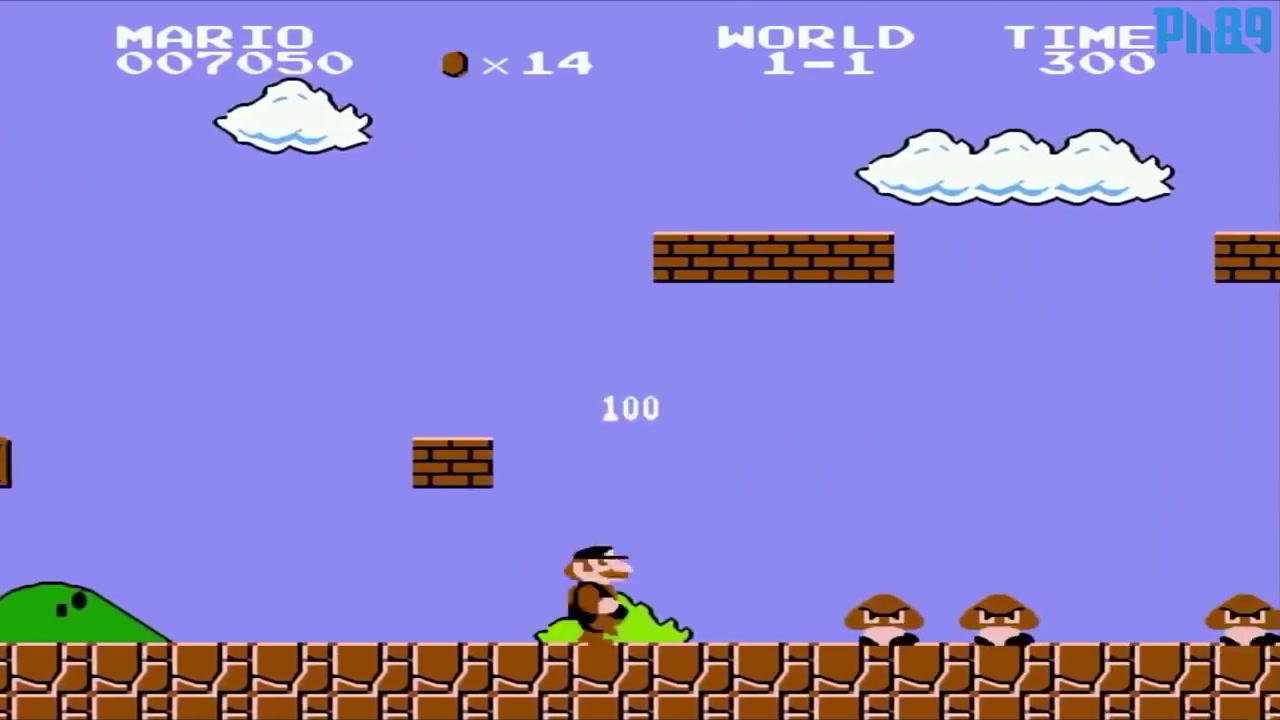mario: (559, 539, 637, 643)
